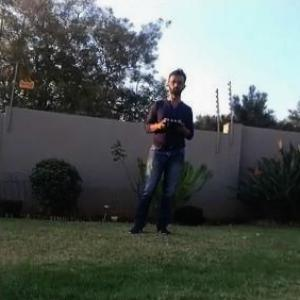follow: (123, 61, 196, 236)
